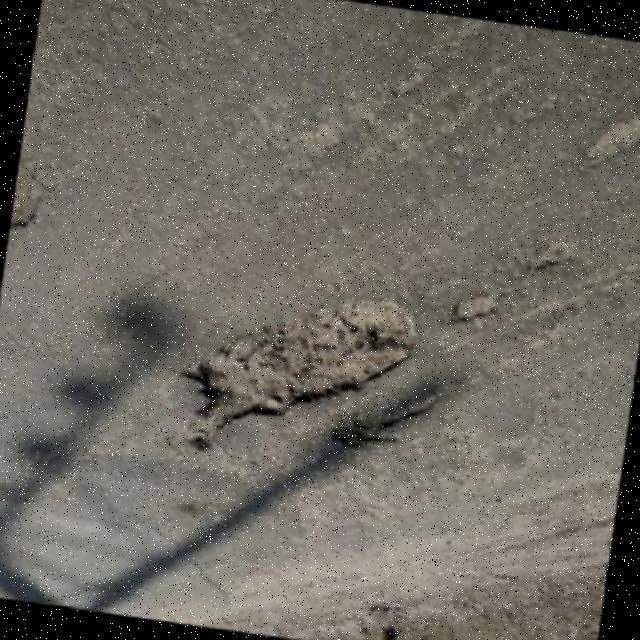Pothole: (181, 300, 417, 450), (333, 393, 441, 446), (454, 292, 500, 320), (535, 238, 575, 270)
